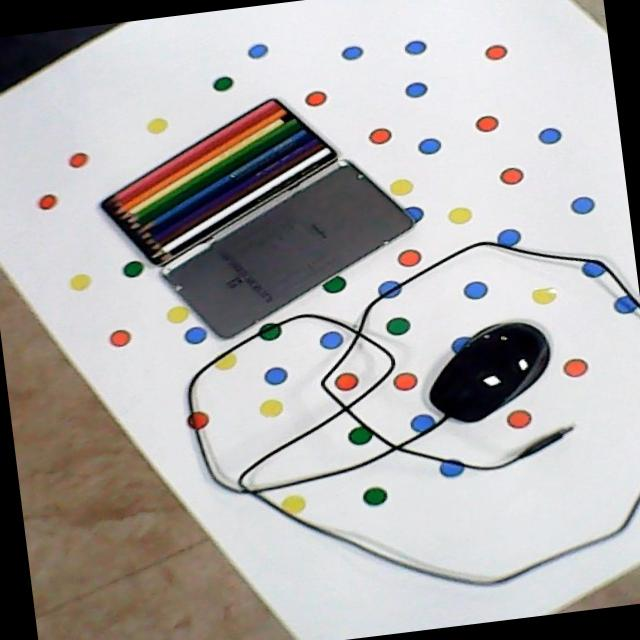color: (87, 89, 338, 275)
mouse: (418, 317, 555, 431)
